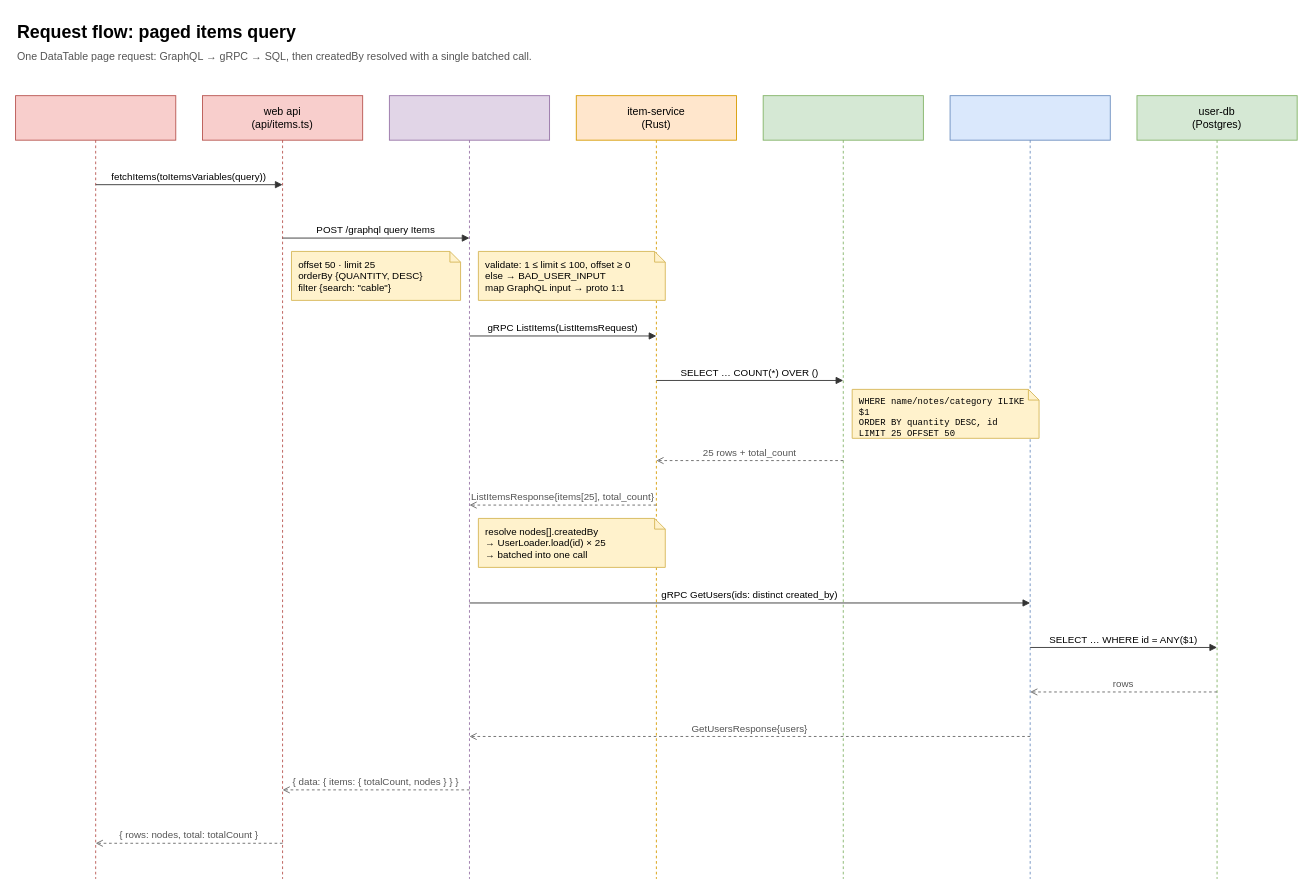
Some shapes in this 1313 by 894 pixel diagram are drawn without their labels. The box of each missing label's shape, as (x1, y1, x2, y2) in pixels:
DataTable (pages/Home.tsx): (15, 95, 176, 879)
graphql-gateway (Go): (388, 95, 550, 879)
item-db (Postgres): (762, 95, 923, 879)
user-service (Go): (949, 95, 1110, 879)
